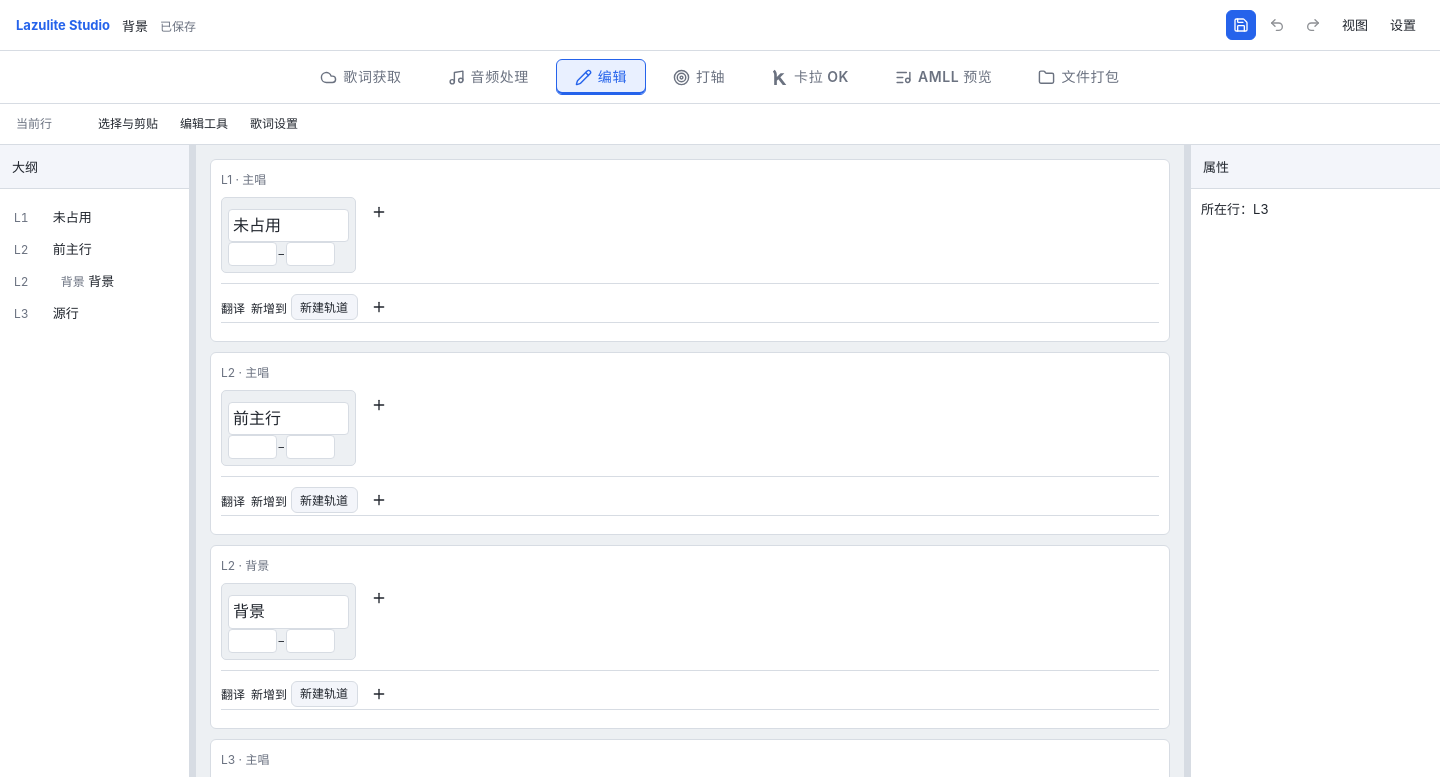
Scenario: rejects an occupied preceding main row without searching farther back or changing selection
The image size is (1440, 777).
Click the button "L3 源行": (94, 312) x1=10 y1=295 x2=179 y2=330
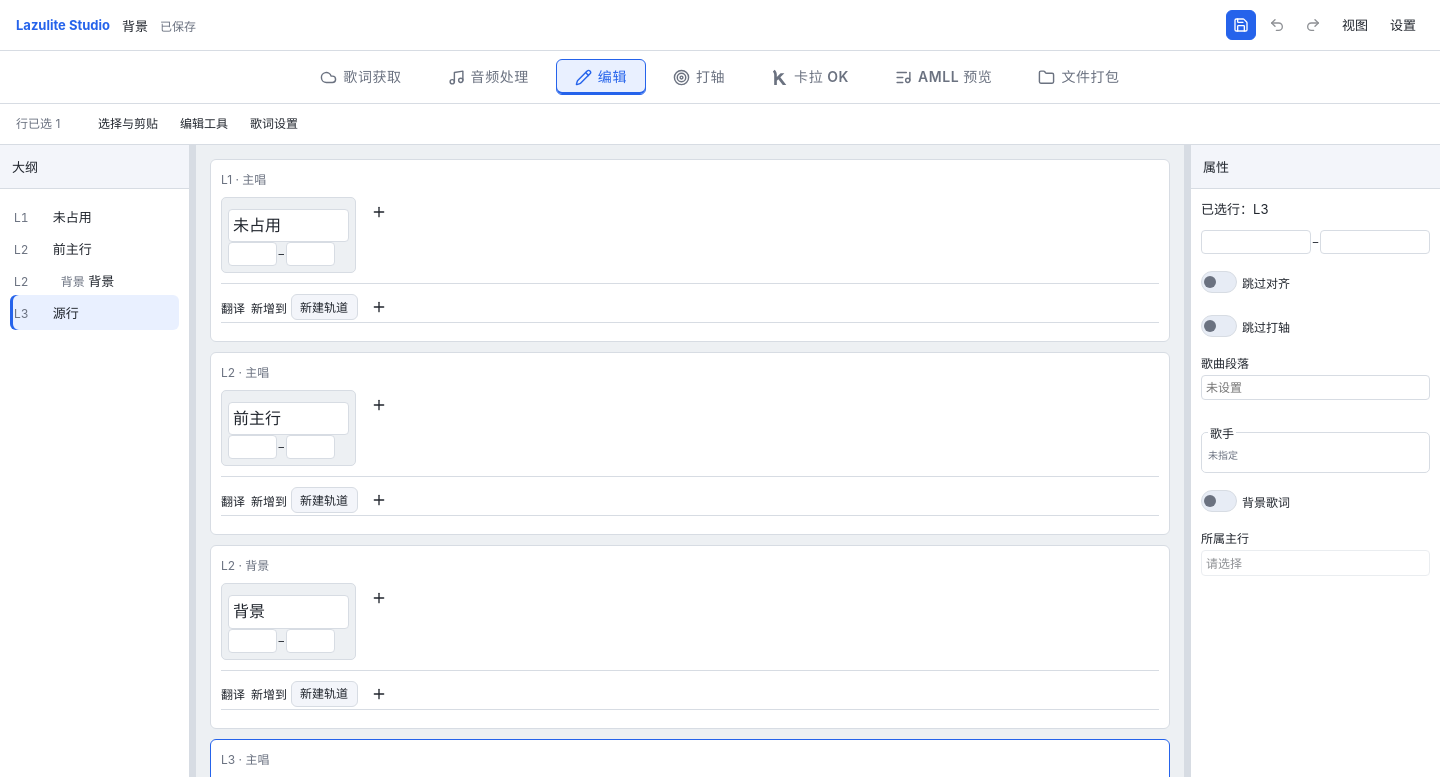
Result: the dropdown labelled "所属主行" is disabled at x1=1201 y1=550 x2=1430 y2=576
Click the switch labelled "背景歌词": (1219, 501) x1=1201 y1=490 x2=1237 y2=512
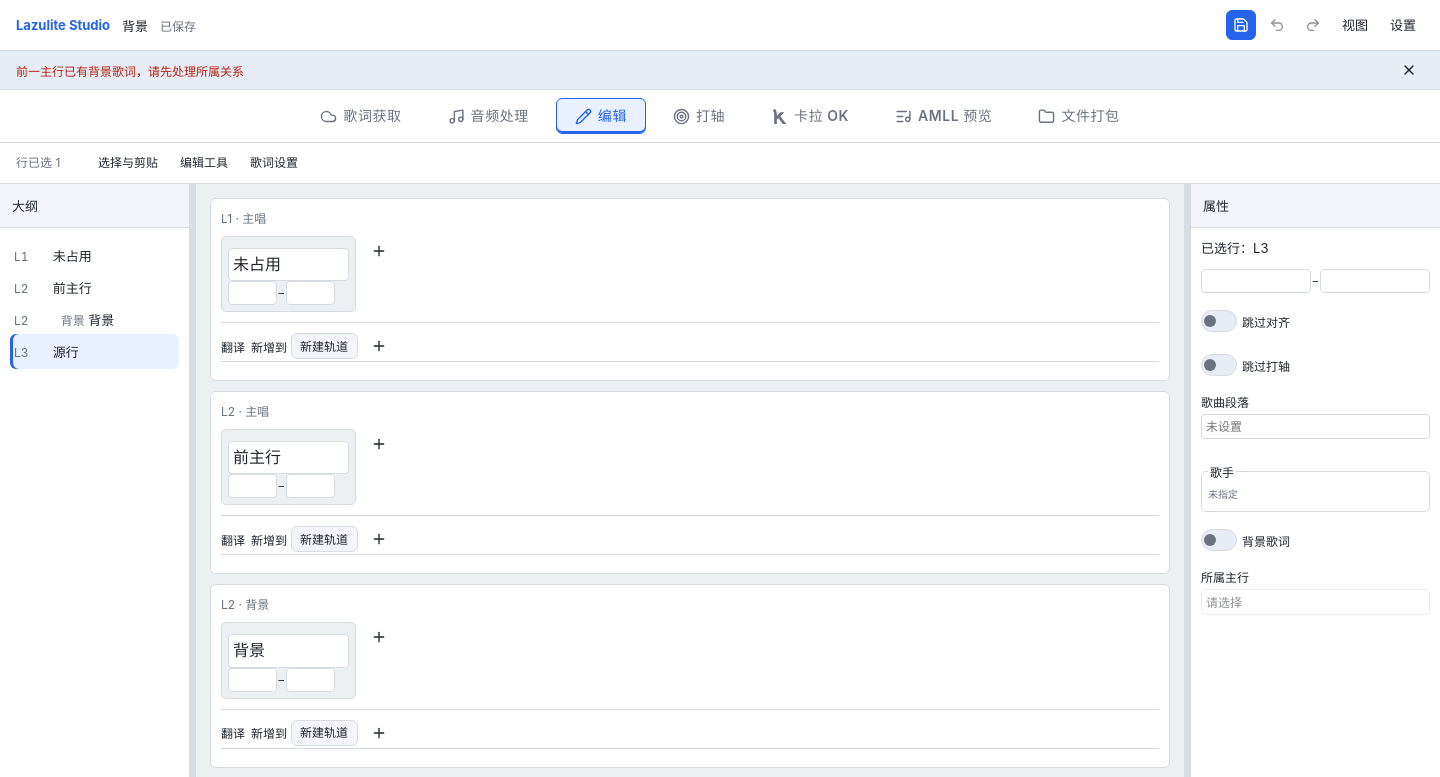
Result: the switch labelled "背景歌词" is not checked at x1=1201 y1=529 x2=1237 y2=551
Result: the text "已选行：L3" is shown at x1=1201 y1=240 x2=1268 y2=256
Result: the message shows "前一主行已有背景" at x1=16 y1=64 x2=244 y2=78
